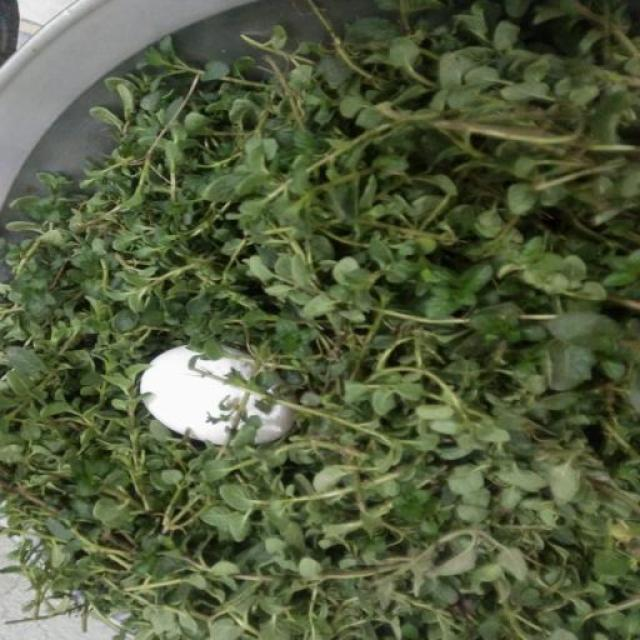telur: (131, 318, 312, 462)
